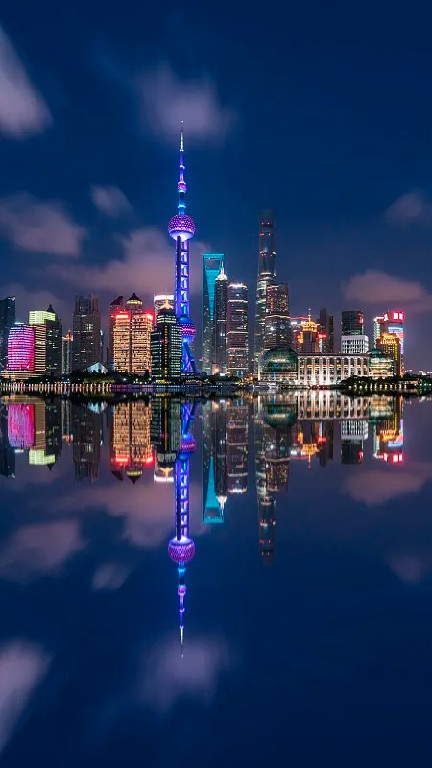Oriental: (169, 120, 197, 369)
